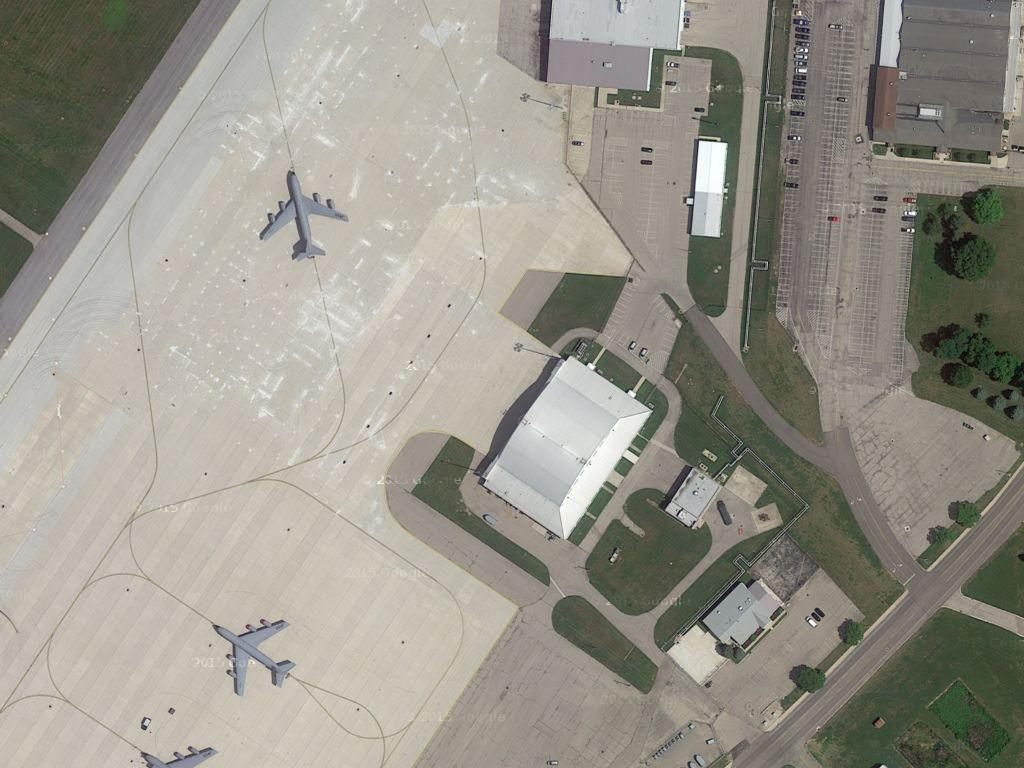KC-135: (259, 168, 354, 264), (210, 615, 298, 695)
